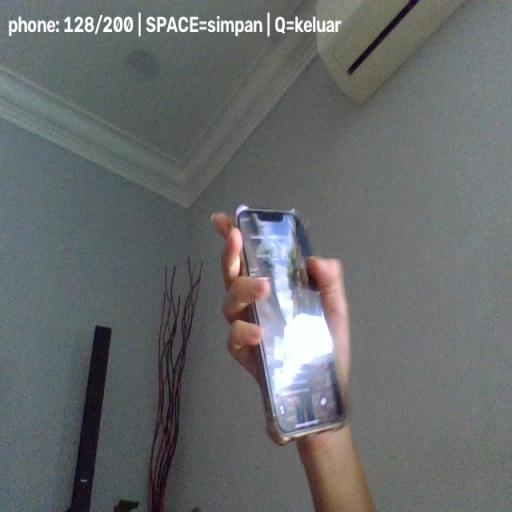Phone: (234, 205, 348, 445)
